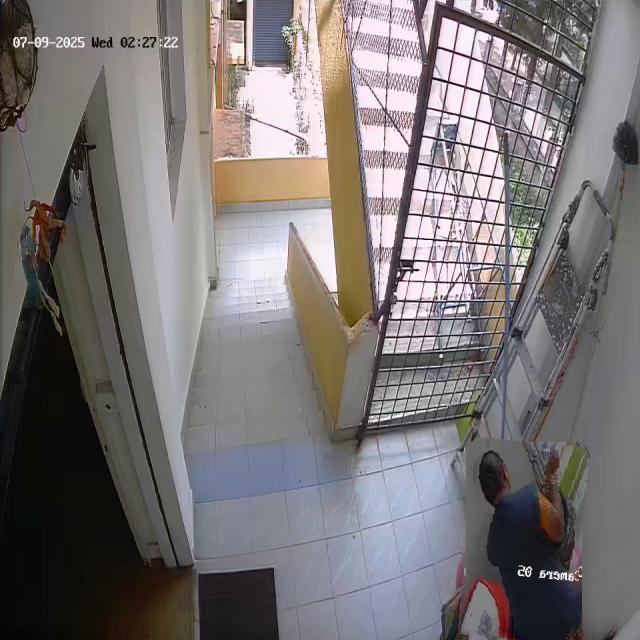person: (462, 439, 586, 640)
